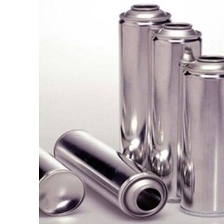aerosol_cans: (51, 122, 171, 221), (114, 2, 174, 183), (146, 19, 204, 206), (174, 50, 224, 221), (0, 126, 91, 218)
